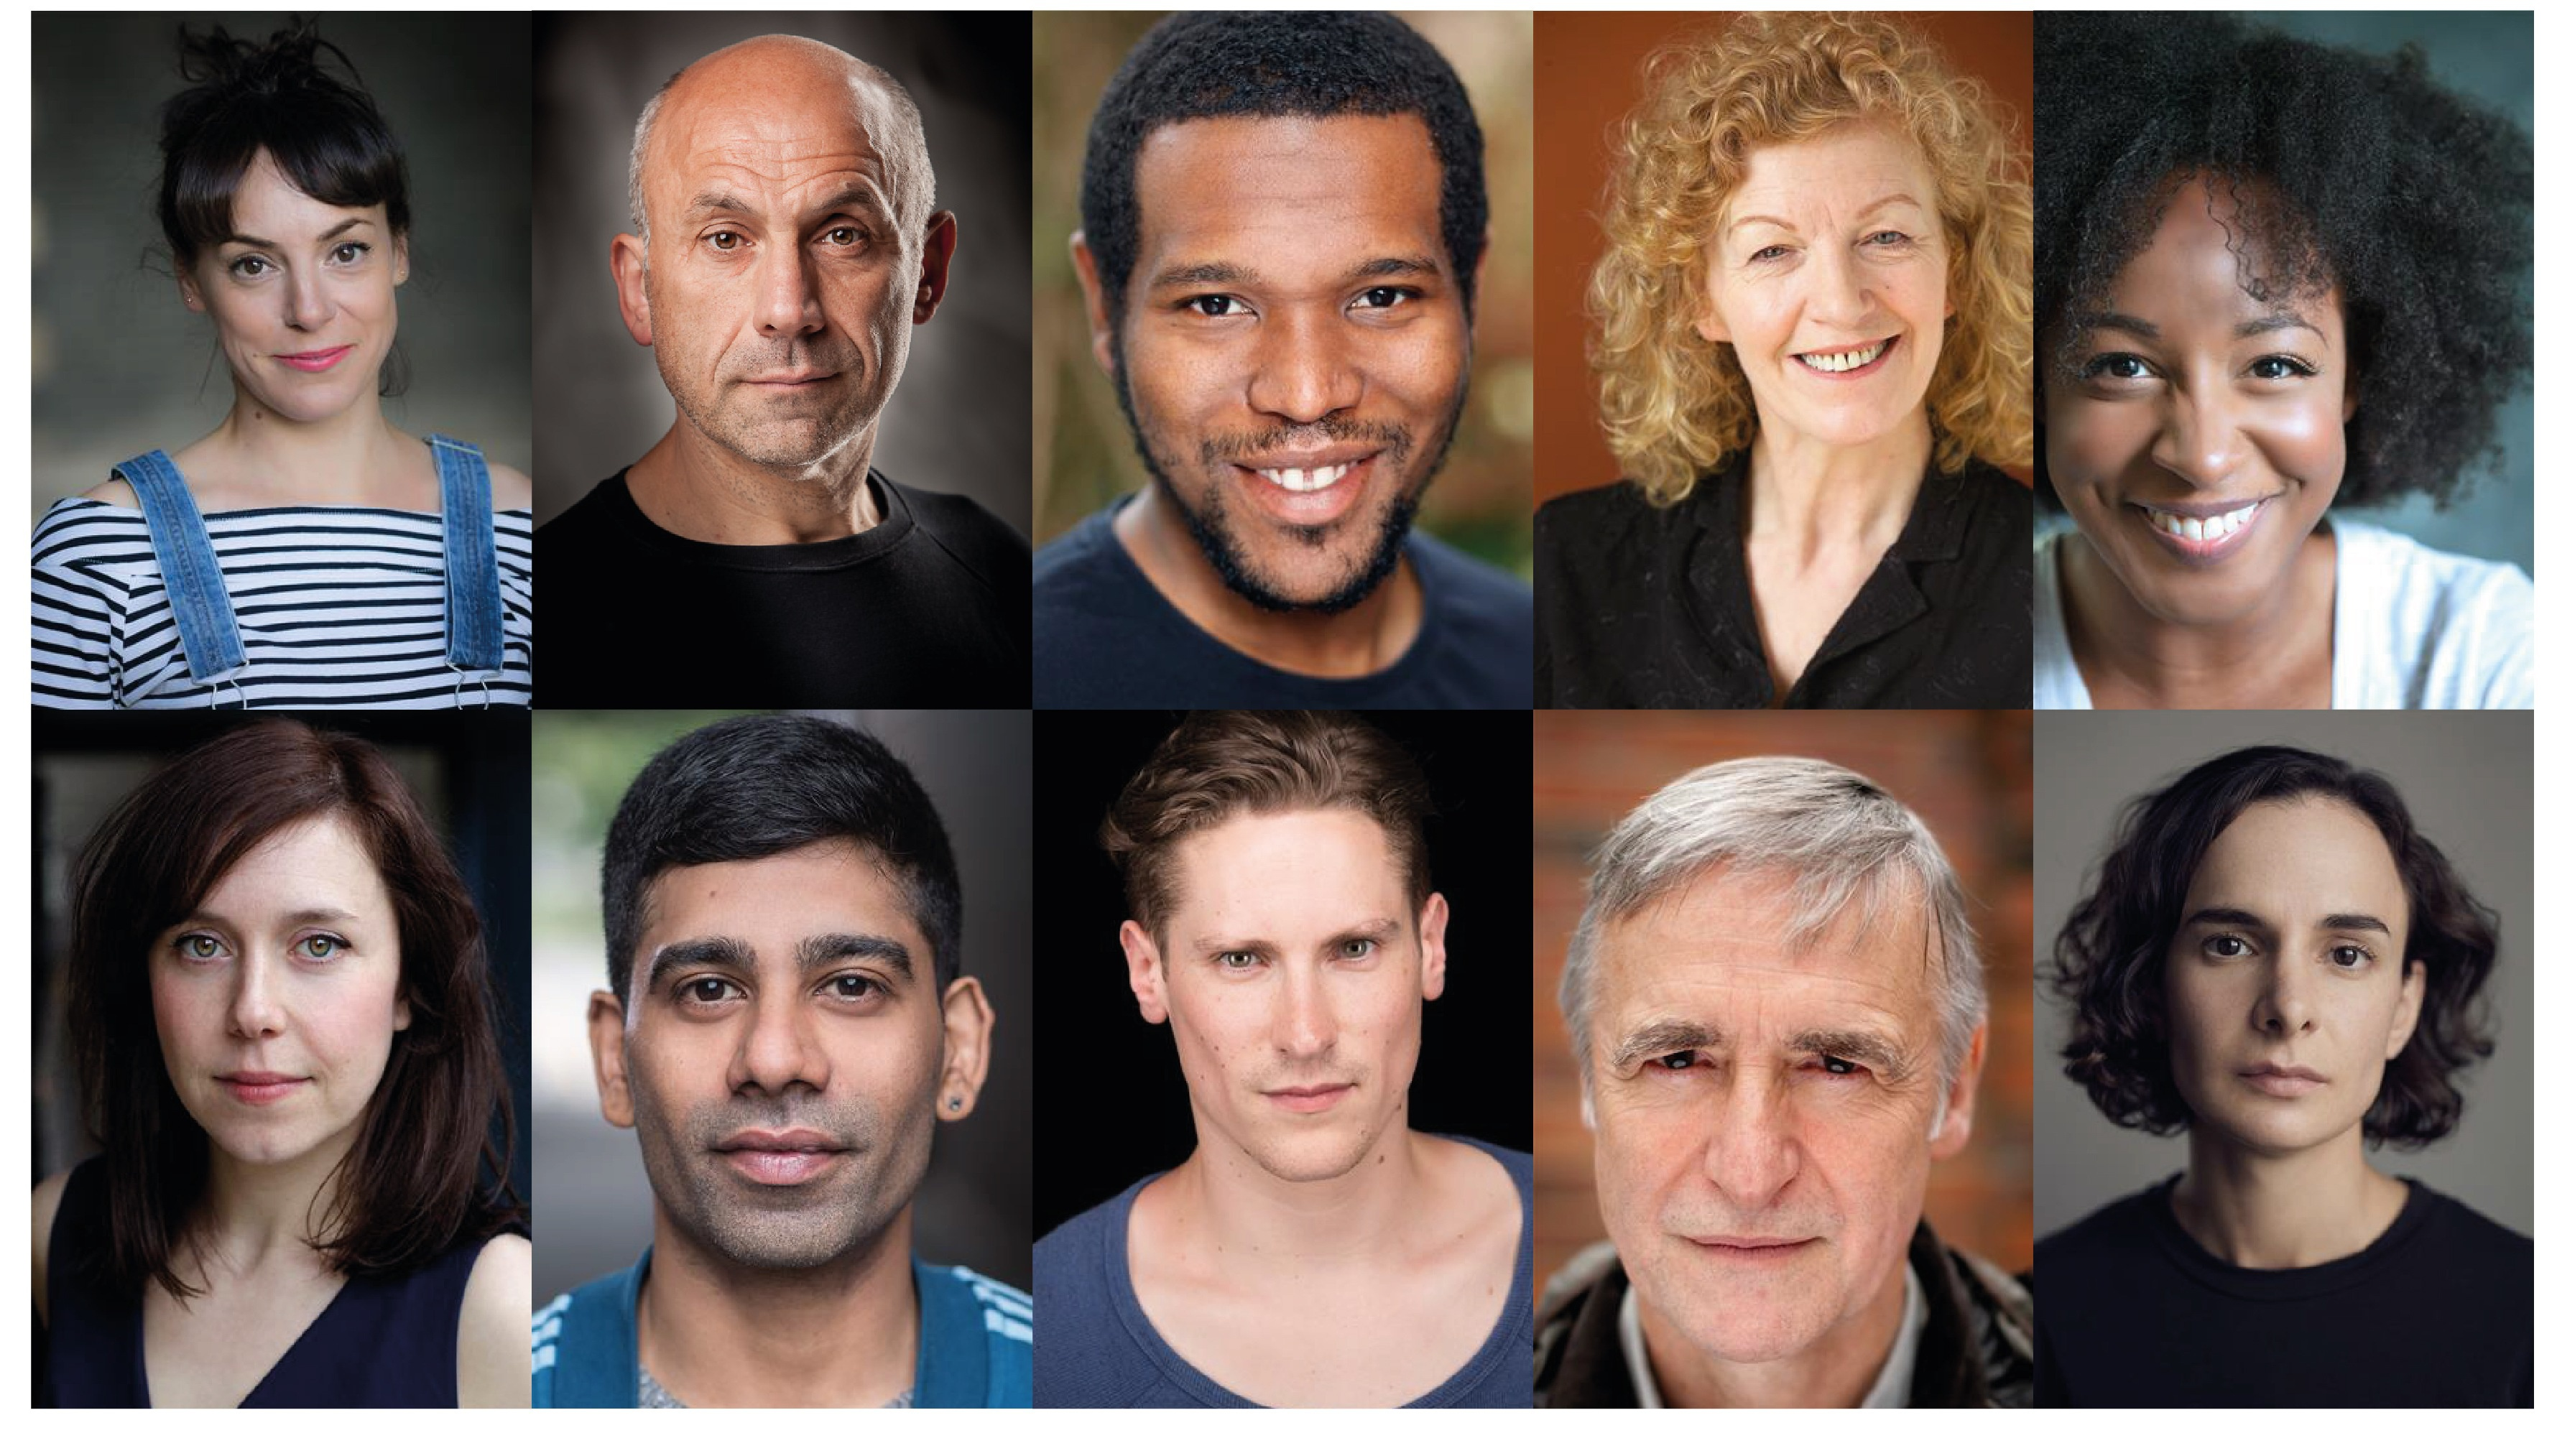bad: (1098, 213, 1496, 611), (1540, 964, 1939, 1363), (618, 139, 952, 472), (618, 915, 952, 1247), (2021, 288, 2353, 620), (1161, 885, 1438, 1161), (116, 854, 392, 1131), (2146, 885, 2422, 1161), (1684, 177, 1960, 453), (209, 209, 400, 400)
